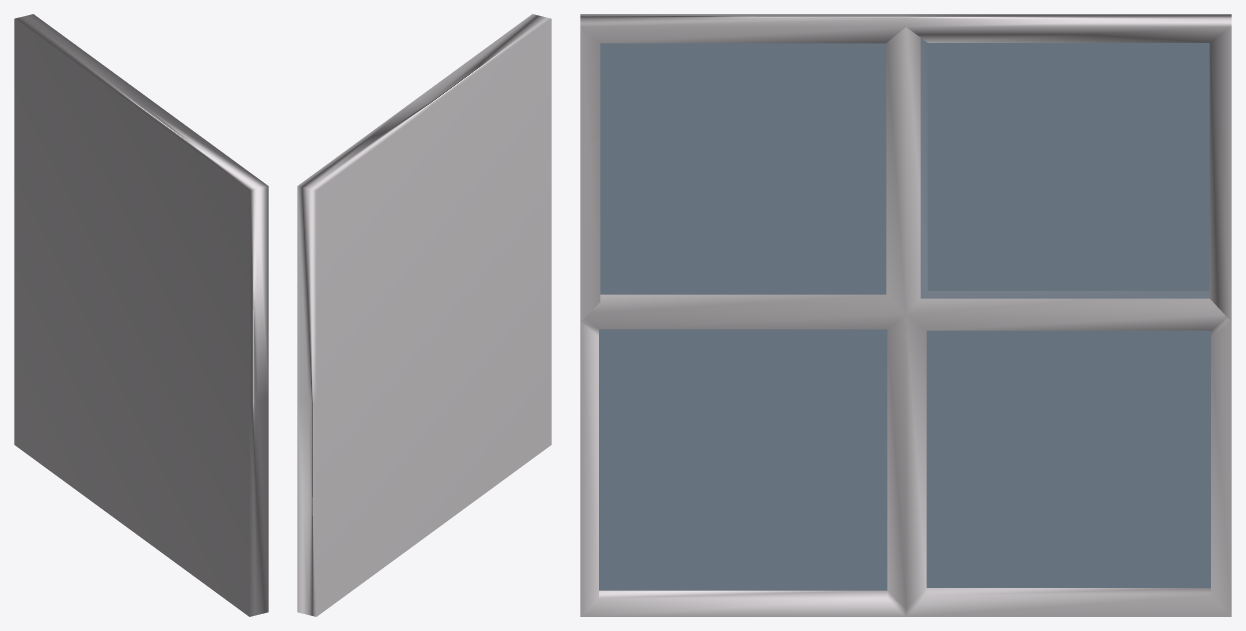
The model's file is suburbwindow.fbx.
3 views of the same model, side by side, from view 1: azimuth 30°, elevation 25°; view 2: azimuth 150°, elevation 25°; view 3: azimuth 270°, elevation 25° (orthographic). The views are drawn at different scales.
Visible parts, largest first — view 1: Cube.002; view 2: Cube.002; view 3: Cube.001, Cube.002.
Boxes of the visible parts, bbox=[...] form: Cube.002: bbox=[14, 14, 268, 616]; Cube.002: bbox=[297, 14, 551, 616]; Cube.001: bbox=[599, 38, 1210, 590]; Cube.002: bbox=[580, 14, 1231, 616].
Size of the model in its own units: 2.43 by 51.76 by 51.77.
